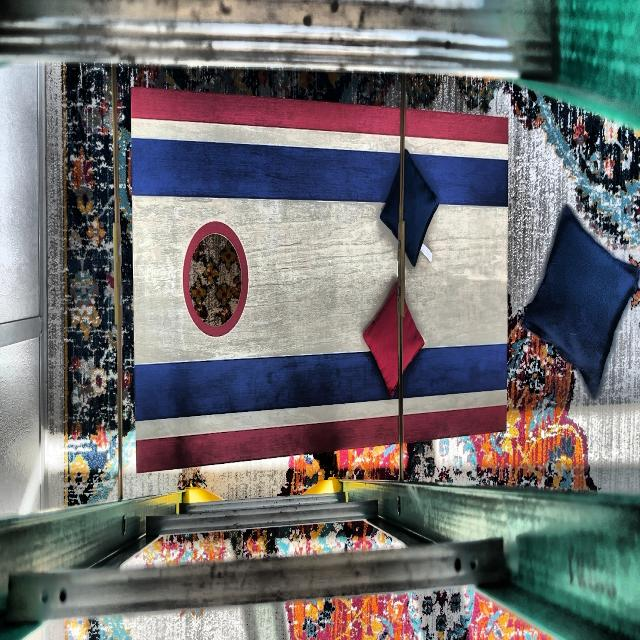blue-bean-bag: (524, 208, 640, 394), (379, 149, 439, 266)
board: (134, 119, 506, 427)
hole: (182, 221, 249, 337)
red-bean-bag: (362, 281, 425, 398)
